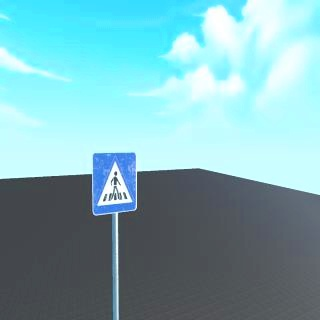crosswalk: (91, 152, 137, 216)
